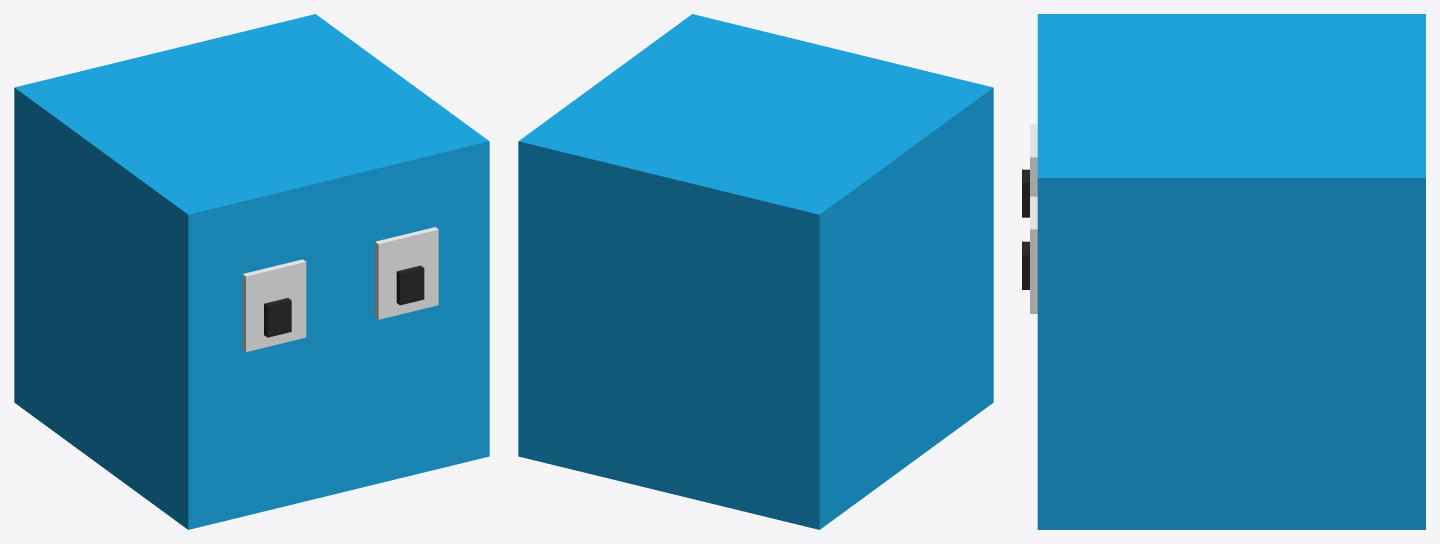
The model's file is lingo-2017.glb.
3 renders of one model, left to right at view 1: azimuth 30°, elevation 25°; view 2: azimuth 150°, elevation 25°; view 3: azimuth 270°, elevation 25°, orthographic. The views are drawn at different scales.
Visible parts, largest first — view 1: Ziggy; view 2: Ziggy; view 3: Ziggy.
Part boxes in pixels (x1,y1,x2,y2): Ziggy: (14,14,489,529); Ziggy: (518,14,993,529); Ziggy: (1022,14,1425,529).
Bounding box in the file's own units: 1 × 1 × 1.04.
